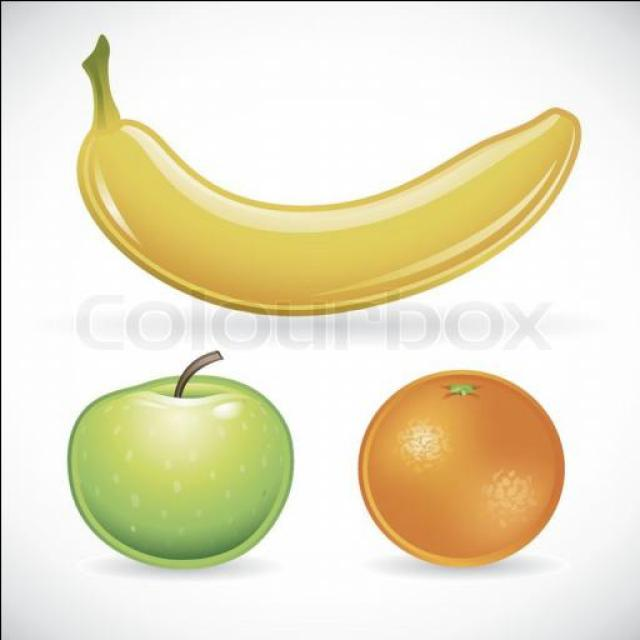Apple: (66, 351, 292, 569)
Banana: (77, 34, 576, 315)
Orange: (359, 369, 563, 564)
